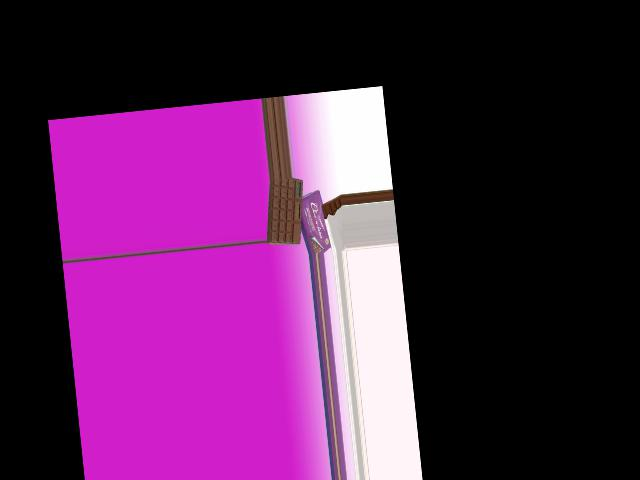chocolate: (260, 179, 310, 246)
